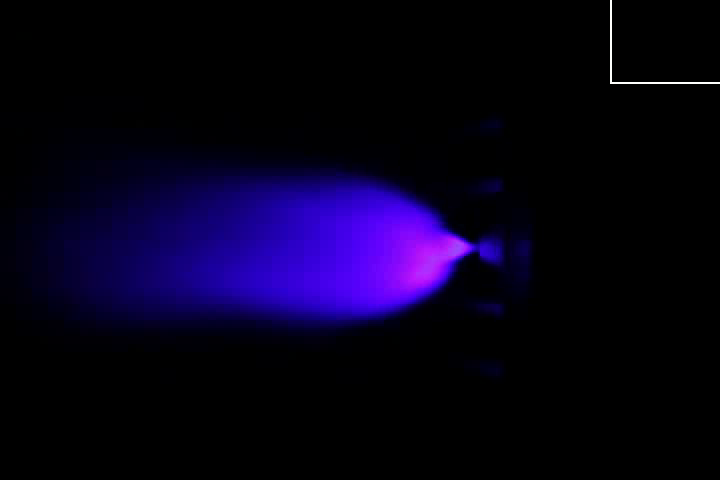burner cap: (477, 234, 504, 266)
stable: (371, 212, 477, 294)
